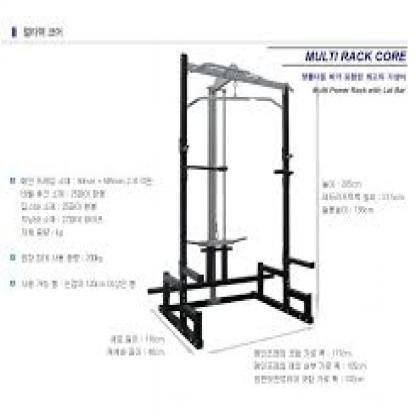smith machine: (147, 53, 302, 346)
